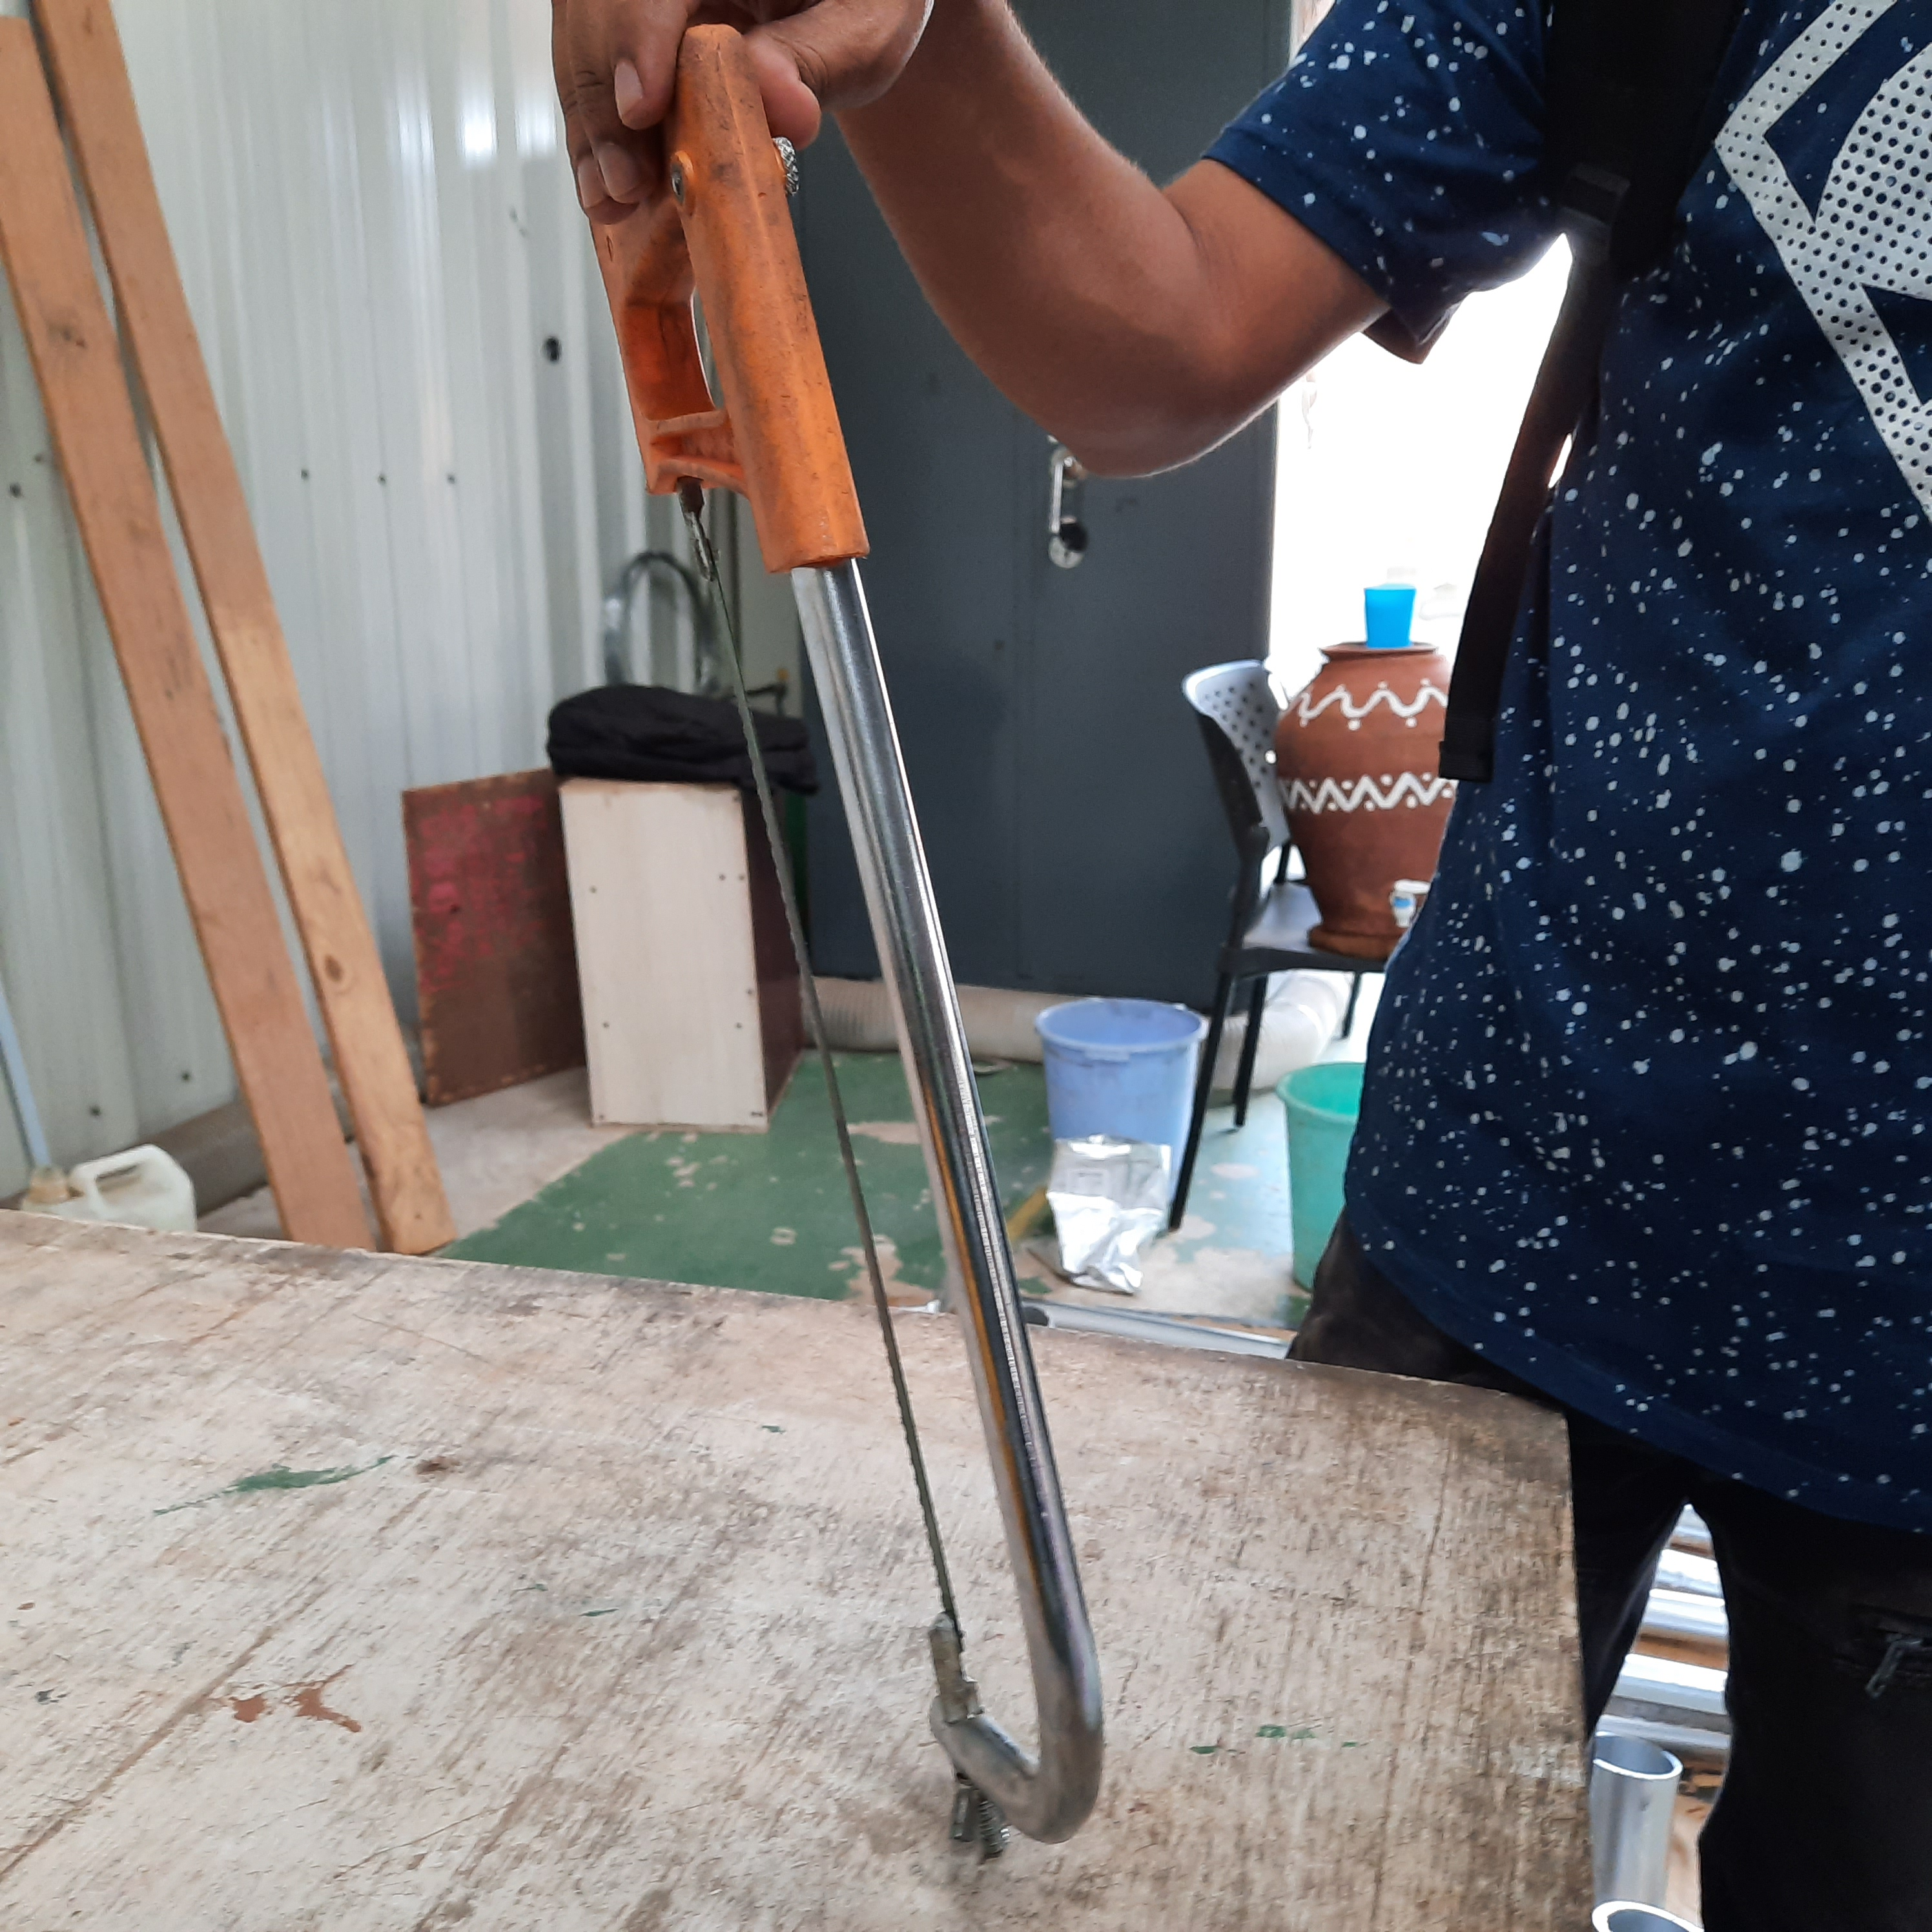Hexaframe: (464, 64, 1235, 1905)
